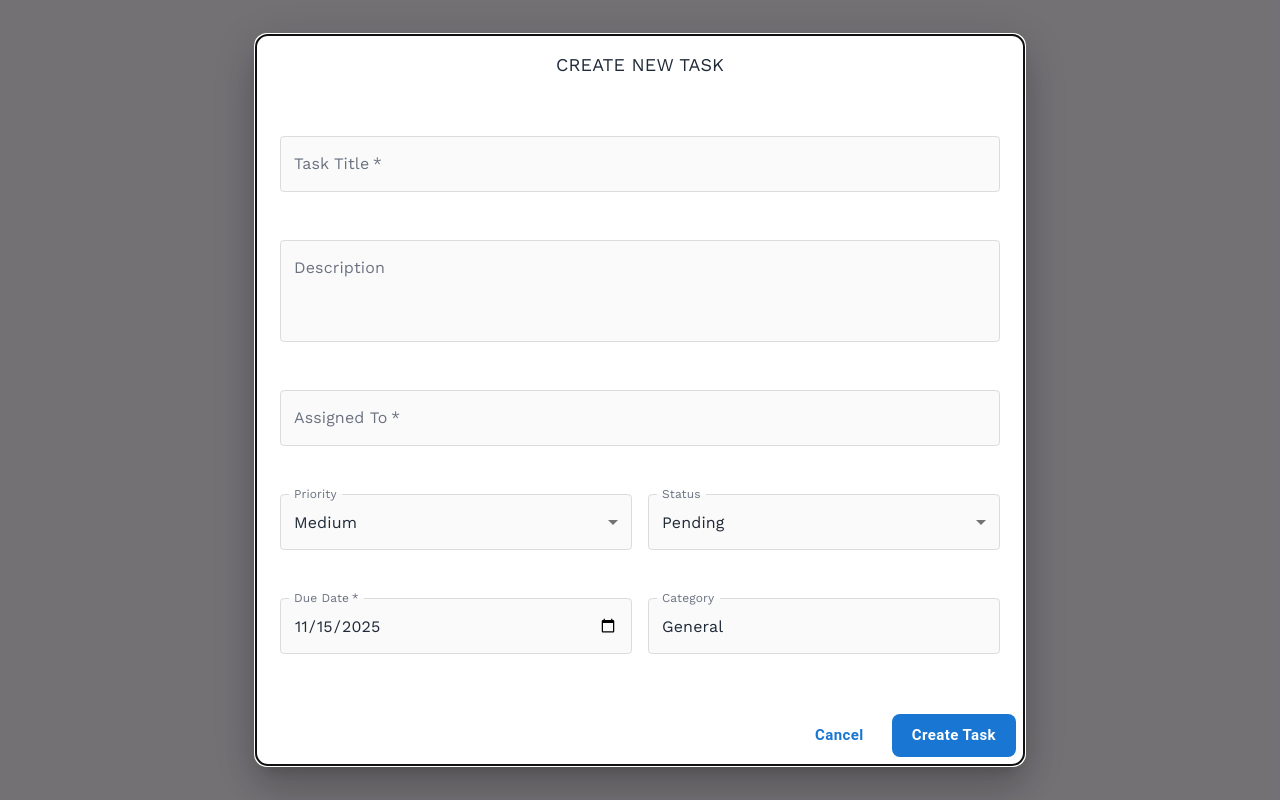
Test: CreateTodoDialog › validates required fields before submission
Click the button "Create Task": {"x": 954, "y": 735} [892,714,1016,757]
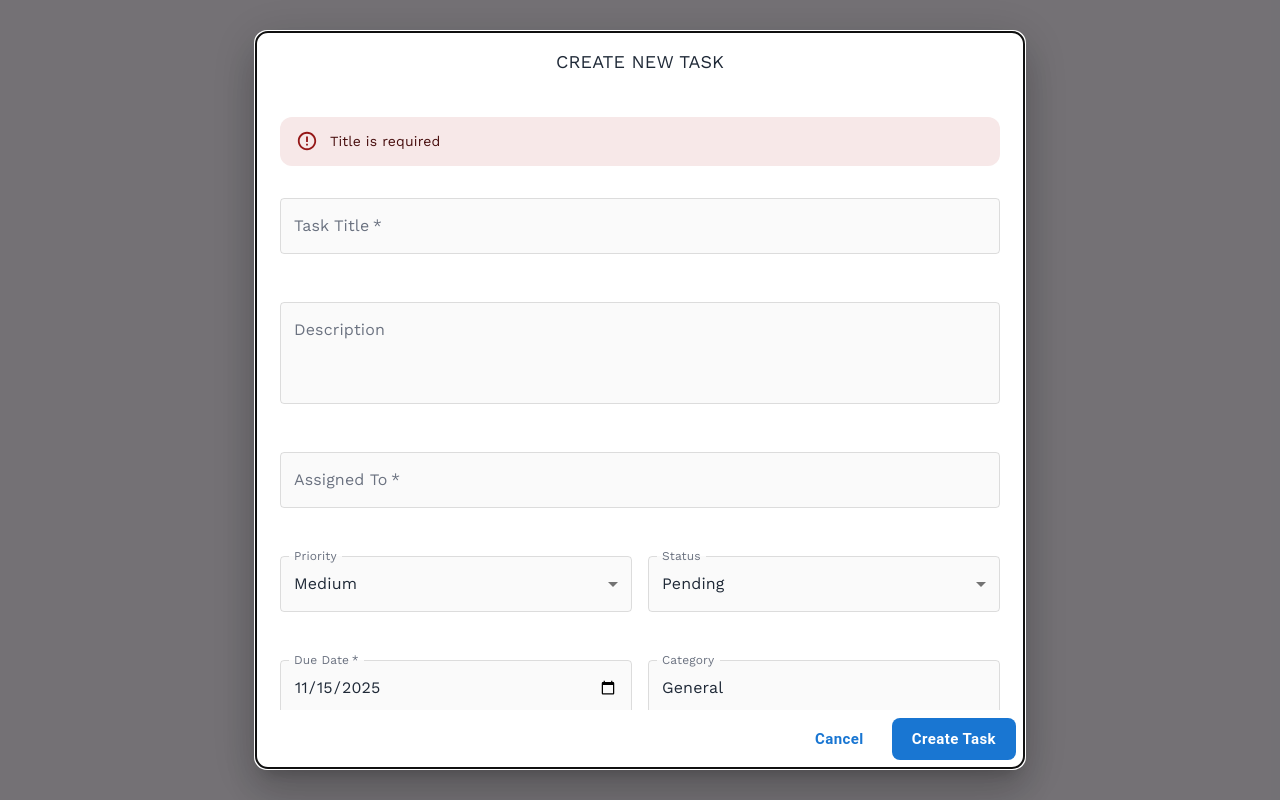
expect the text "Title is required" is shown: met, box [330,133,440,149]
